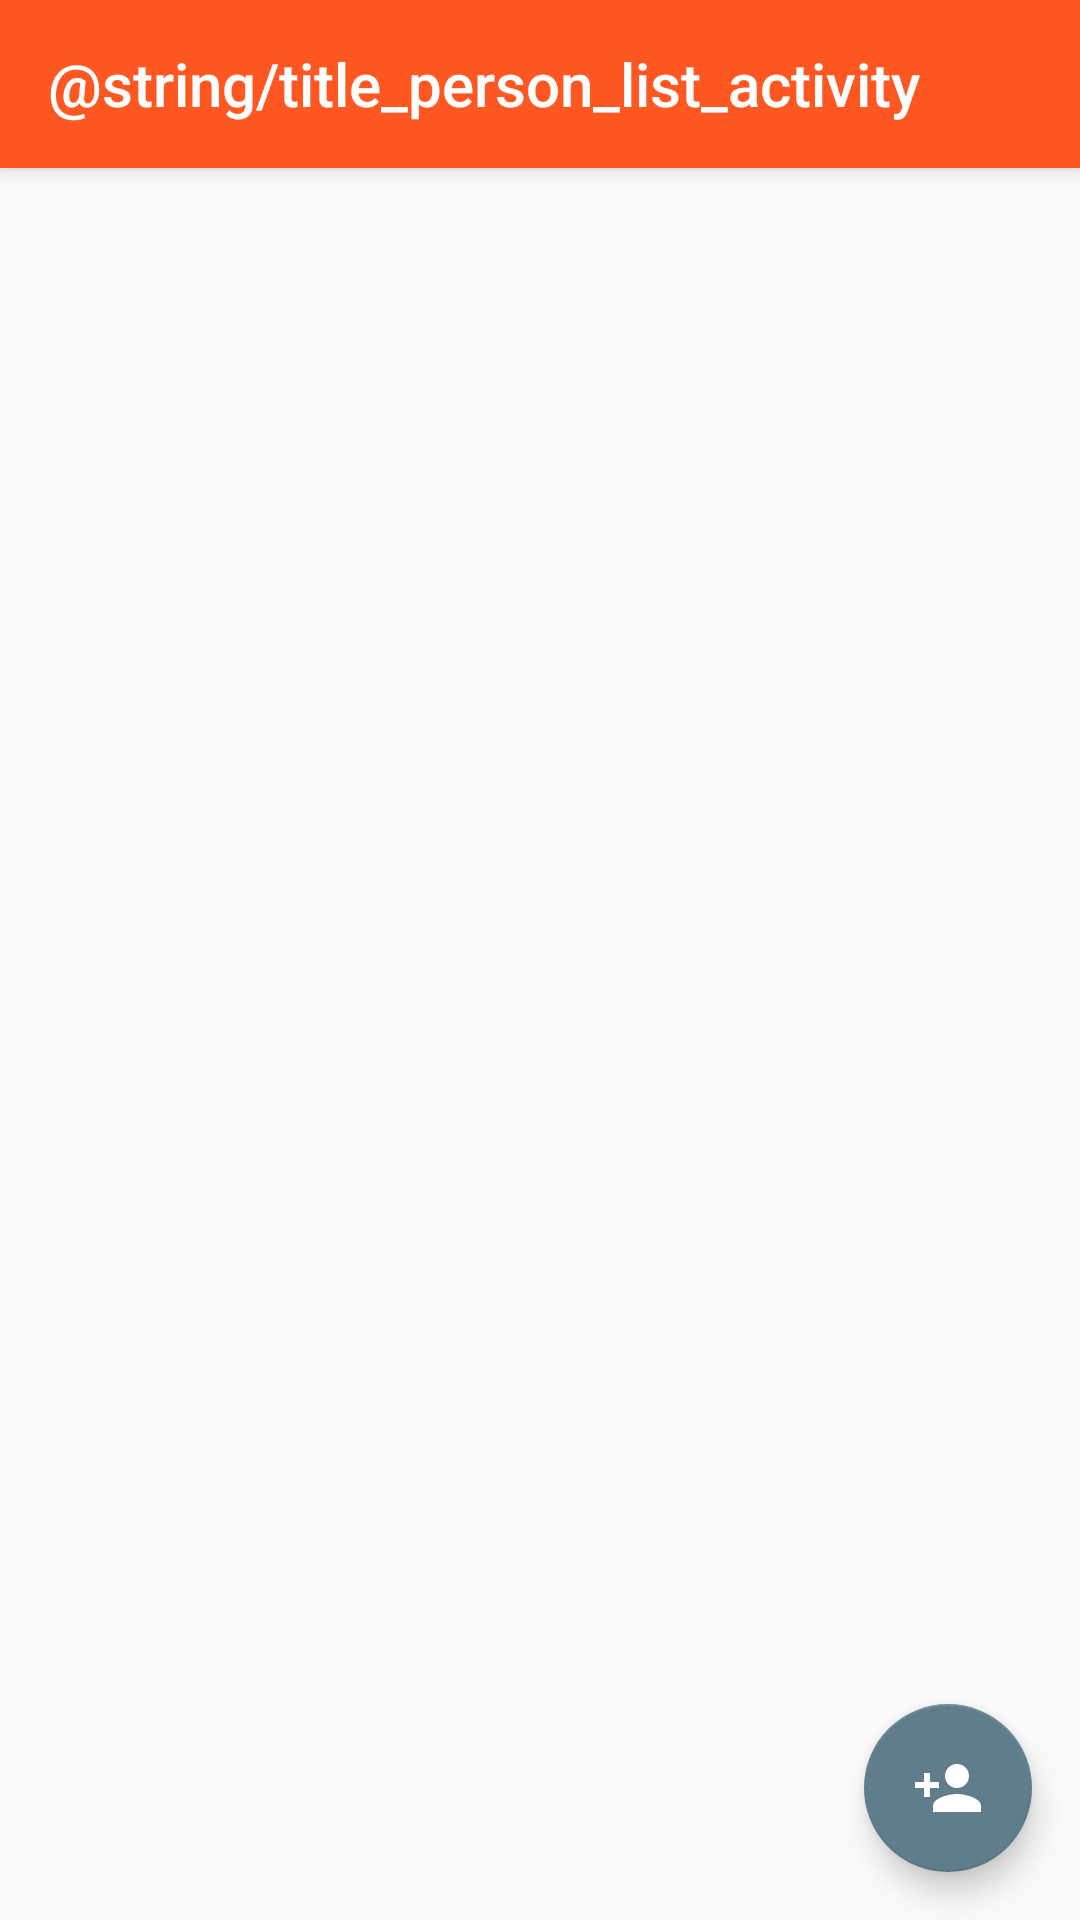

Named icons in this screenshot (1080 x 1920) and their centers, (x=x, y=y):
person add: (x=948, y=1788)
